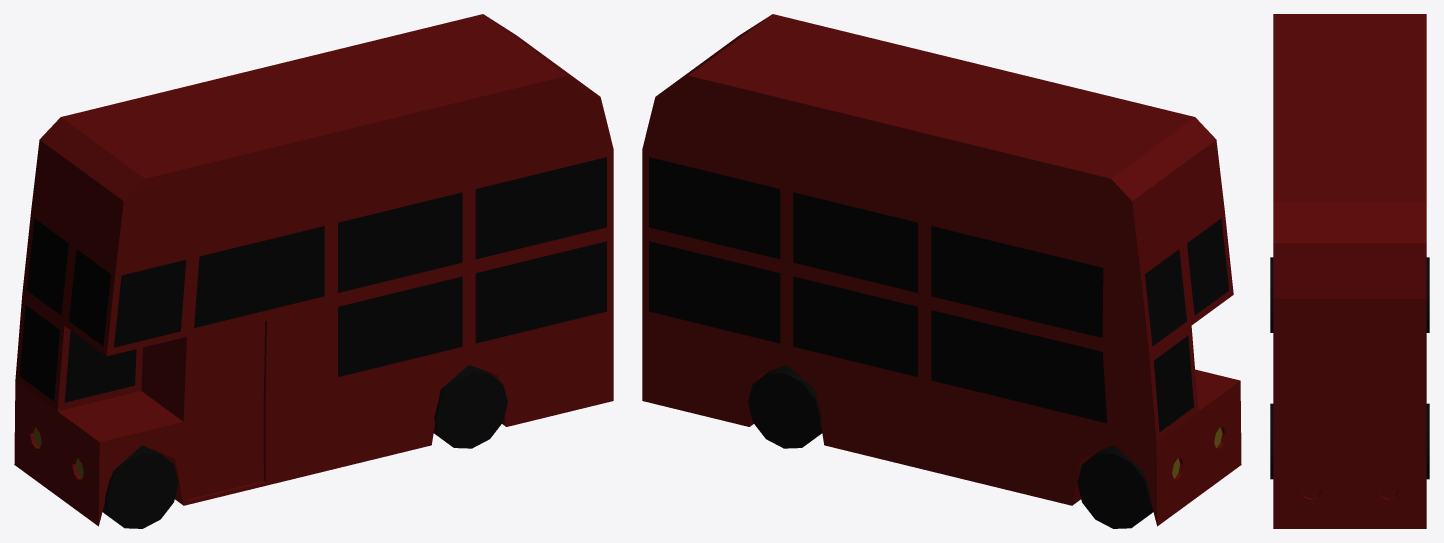
File: Bus.fbx
3 renders of one model, left to right at view 1: azimuth 30°, elevation 25°; view 2: azimuth 150°, elevation 25°; view 3: azimuth 270°, elevation 25°, orthographic. The views are drawn at different scales.
Visible parts, largest first — view 1: bus, vitres, roues; view 2: bus, vitres, roues; view 3: bus, roues.
Part boxes in pixels (box(x1,y1,x2,y2)): bus: box(14, 14, 613, 526); vitres: box(19, 157, 606, 402); roues: box(102, 365, 507, 528); bus: box(642, 14, 1241, 526); vitres: box(649, 157, 1229, 431); roues: box(748, 365, 1153, 528); bus: box(1273, 14, 1426, 528); roues: box(1270, 257, 1429, 479).
Bounding box in the file's own units: 765 × 495 × 225.
